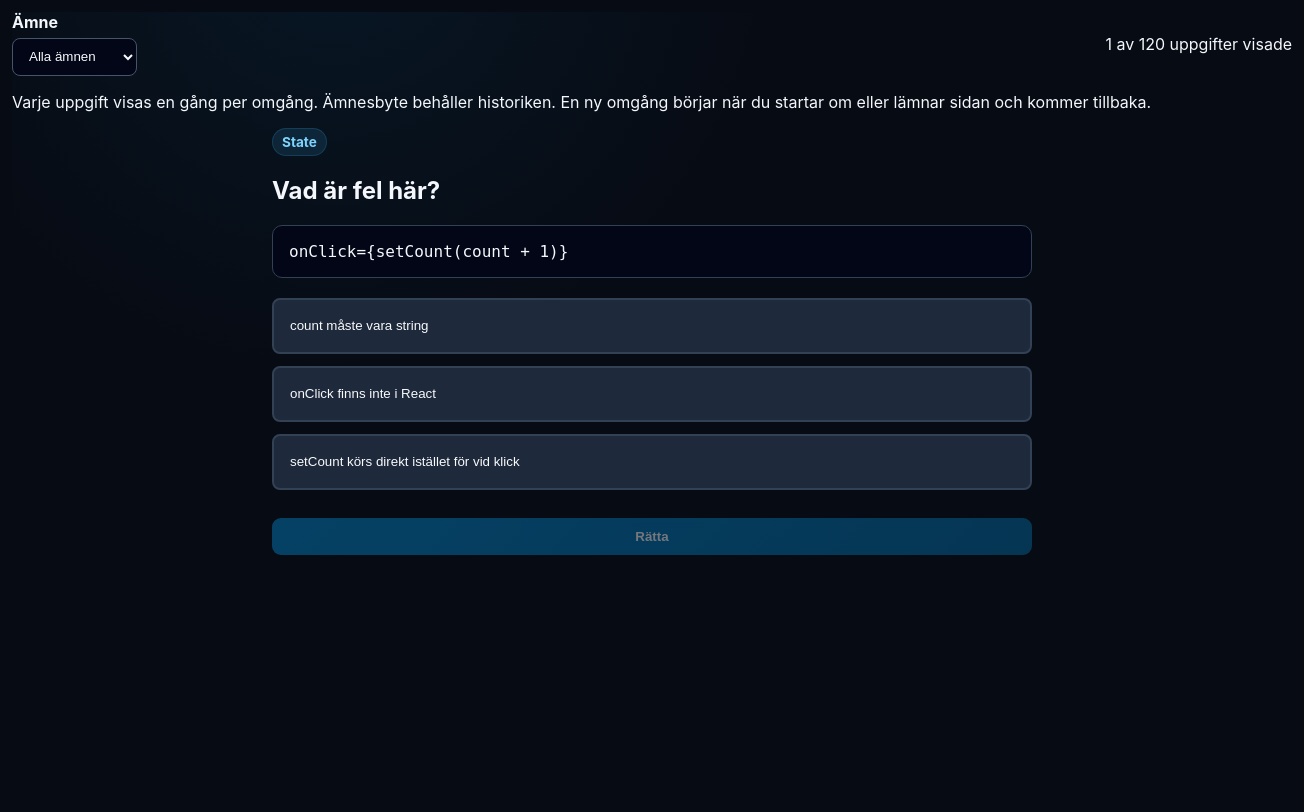
Test: Snabbfel highlights the selected answer, moves the highlight and resets it for the next question
Click the button "count måste vara string". click: {"x": 359, "y": 326}
box: [272,298,1032,354]
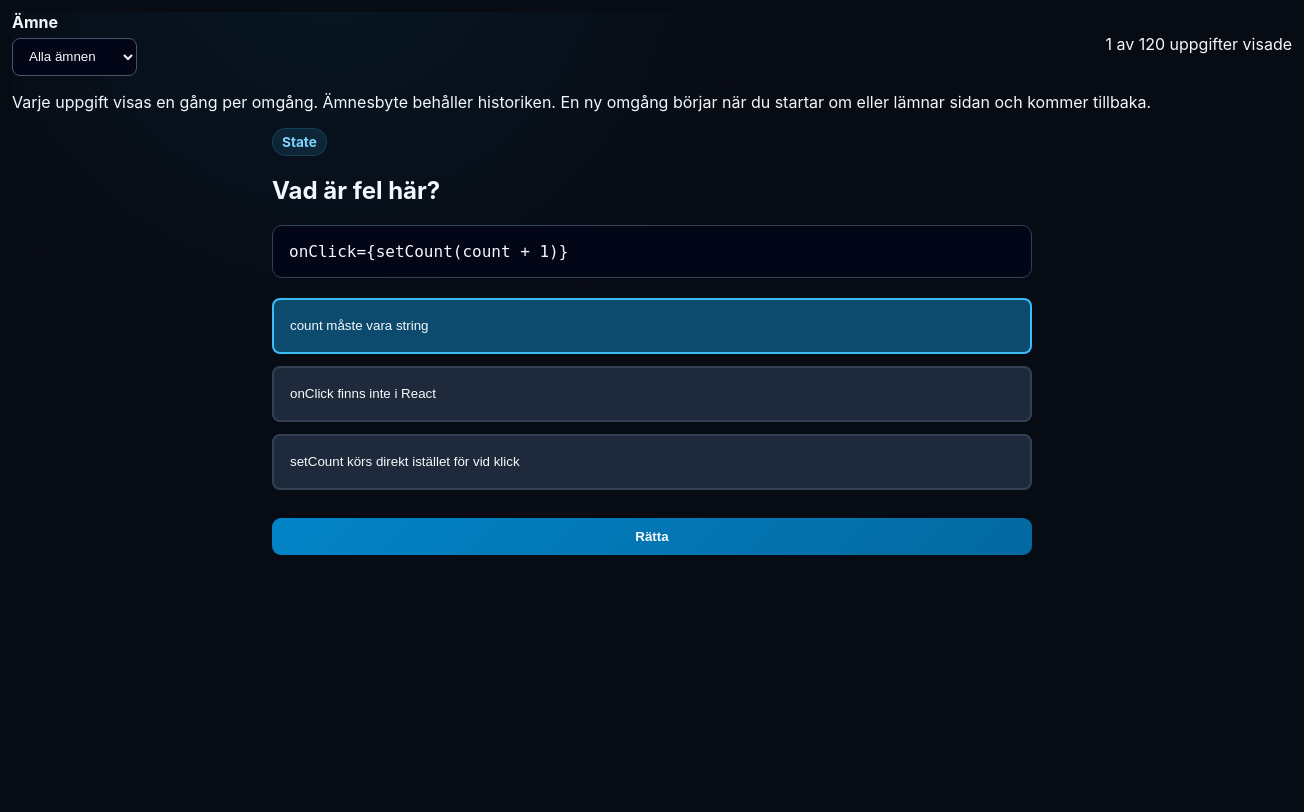
Expected: the button "count måste vara string" has class "selected-option", [272,298,1032,354]
Expected: the button "count måste vara string" is pressed, [272,298,1032,354]
Click the button "onClick finns inte i React". click: {"x": 363, "y": 394}
box: [272,366,1032,422]
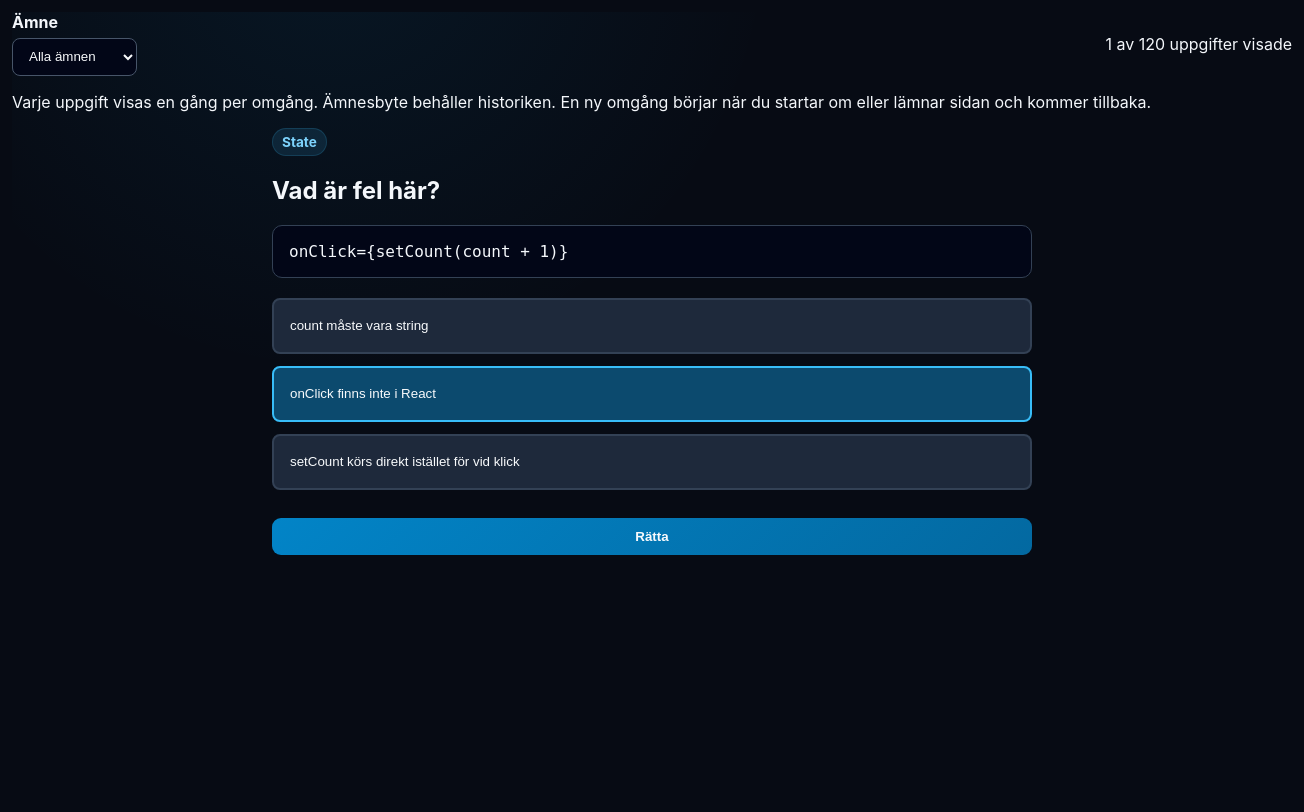
Expected: the number of buttons with class "selected-option" is 1, [272,366,1032,422]
Expected: the button "Rätta" is enabled
Click the button "Rätta". click: {"x": 652, "y": 536}
box: [272,518,1032,555]
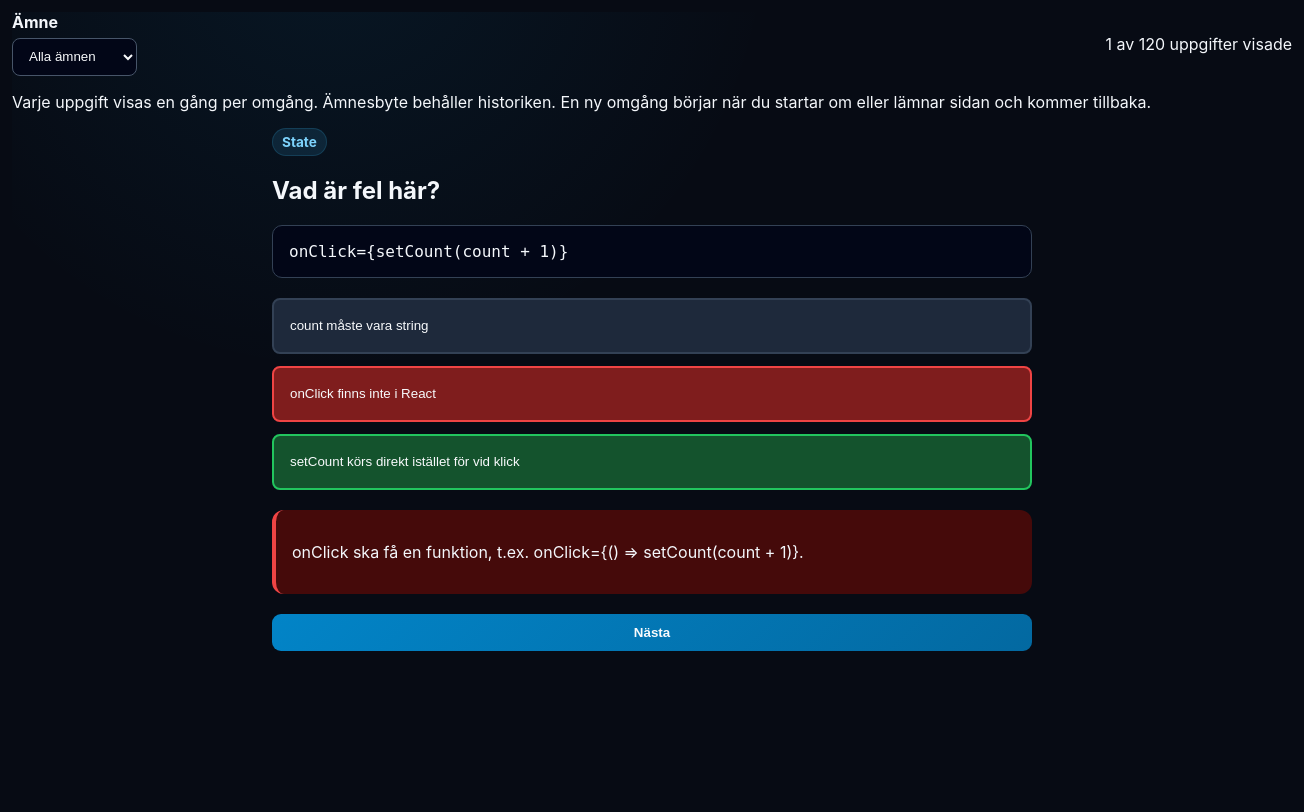
Expected: the button "Nästa" is enabled
Click the button "Nästa". click: {"x": 652, "y": 632}
box: [272,614,1032,651]
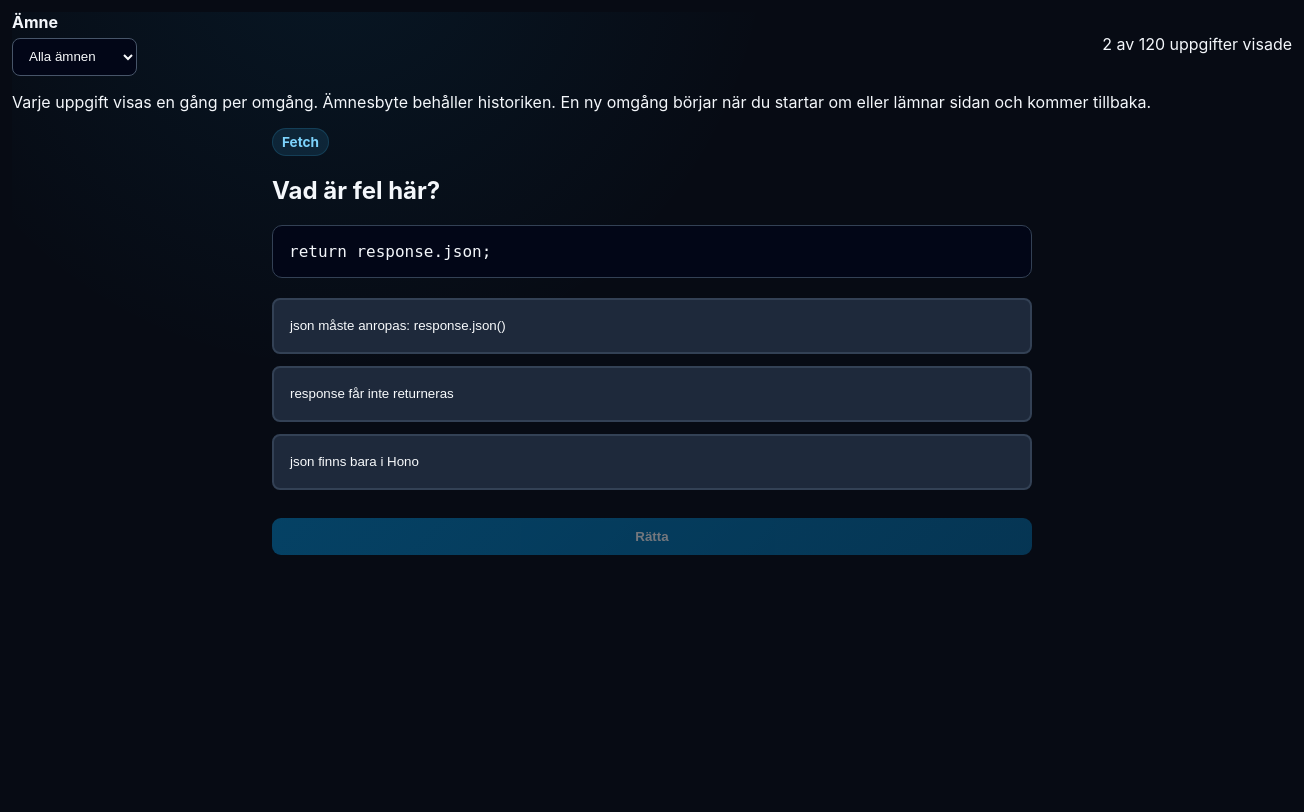
Expected: the button "Rätta" is disabled, [272,518,1032,555]
